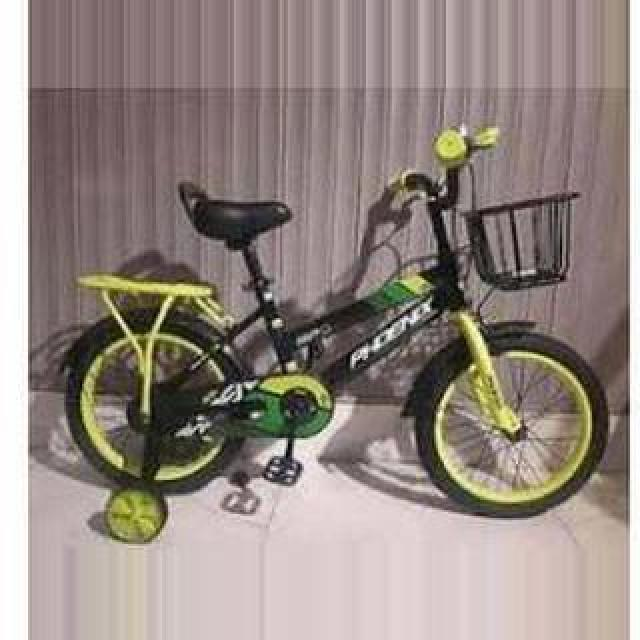Person: (63, 117, 609, 521)
